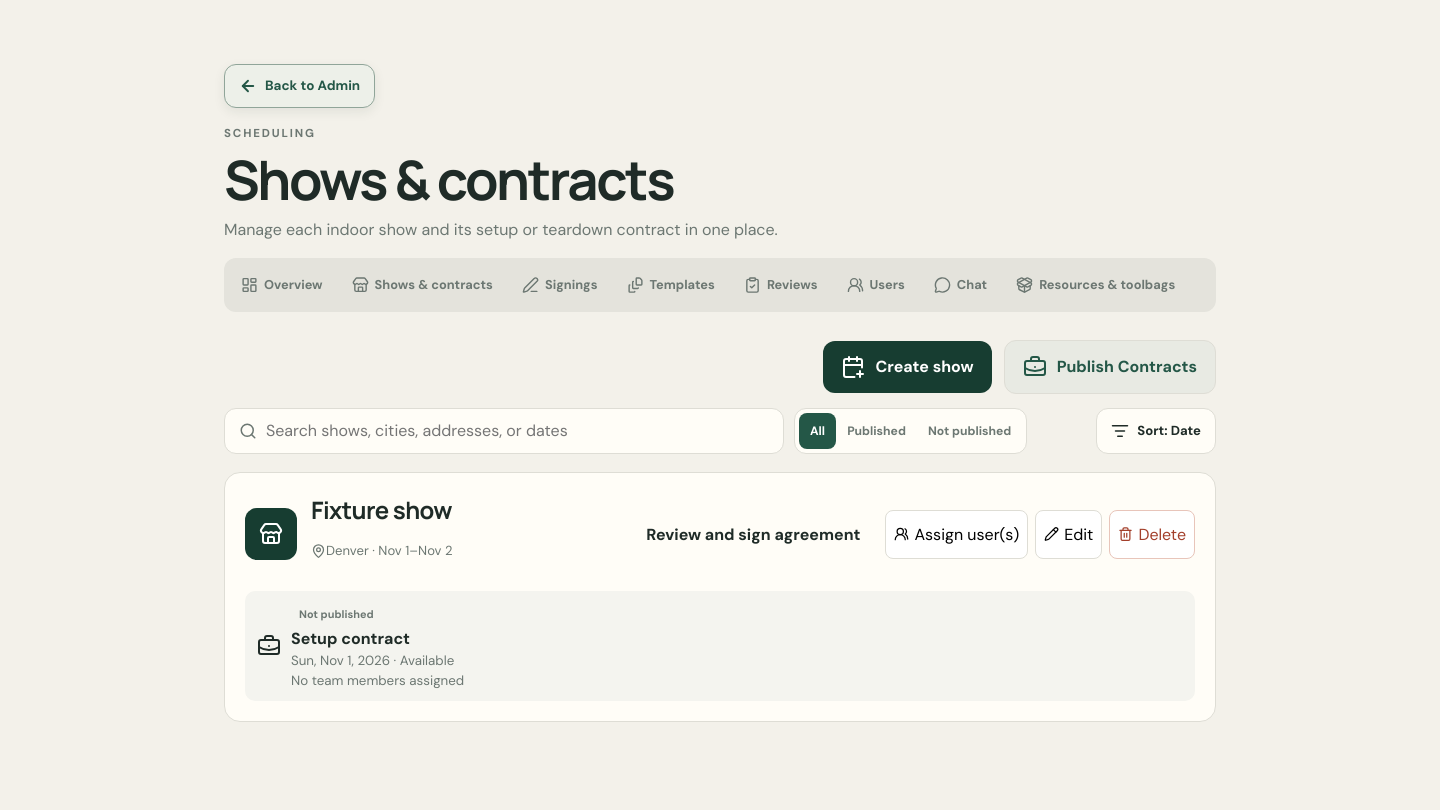
Test: saving an existing show does not reuse a stored admin name or write signature fields
Click the button "Edit". click: (1069, 534)
box: [1035,510,1102,559]
(page scrolled)
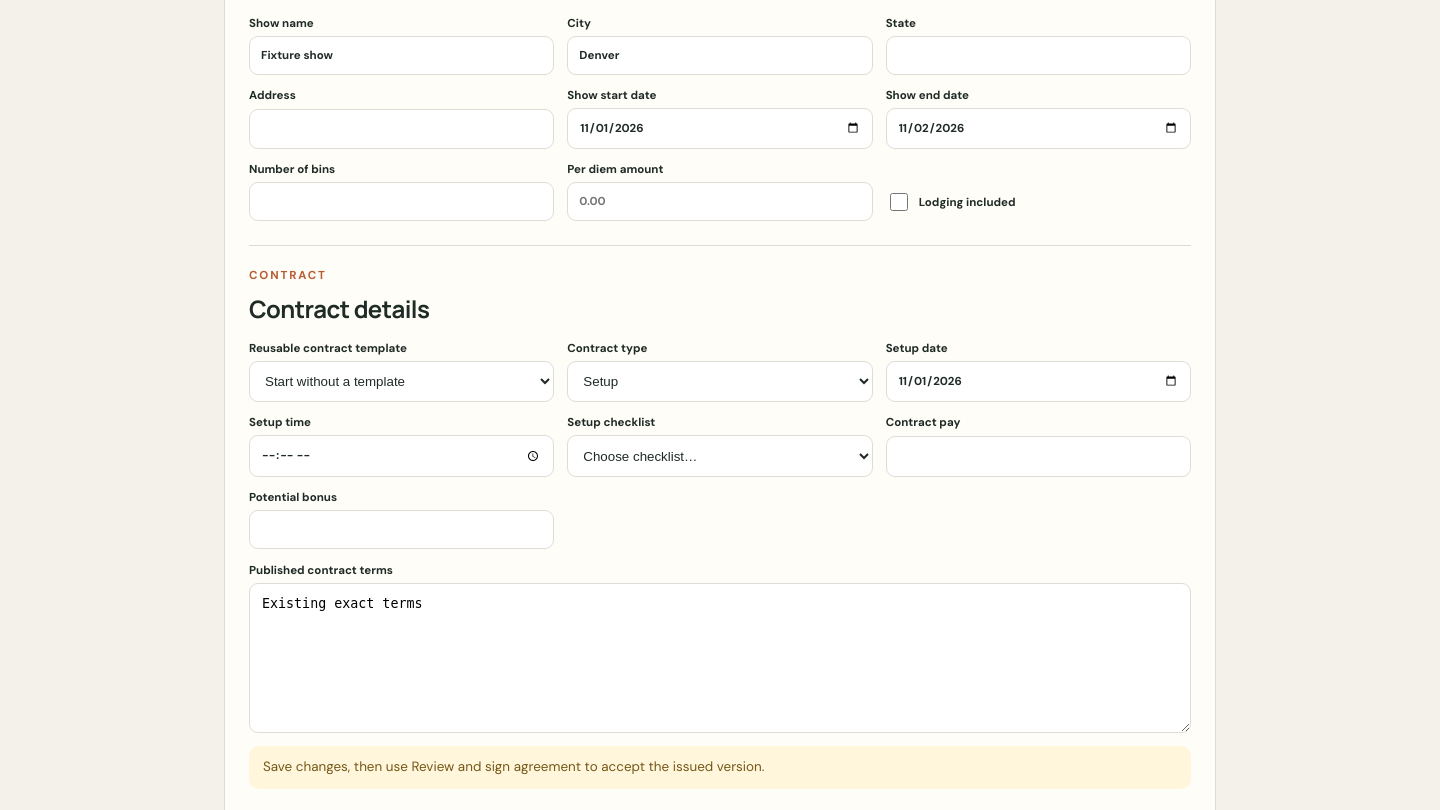
Submit the form named "Save show and contract"
(page scrolled)
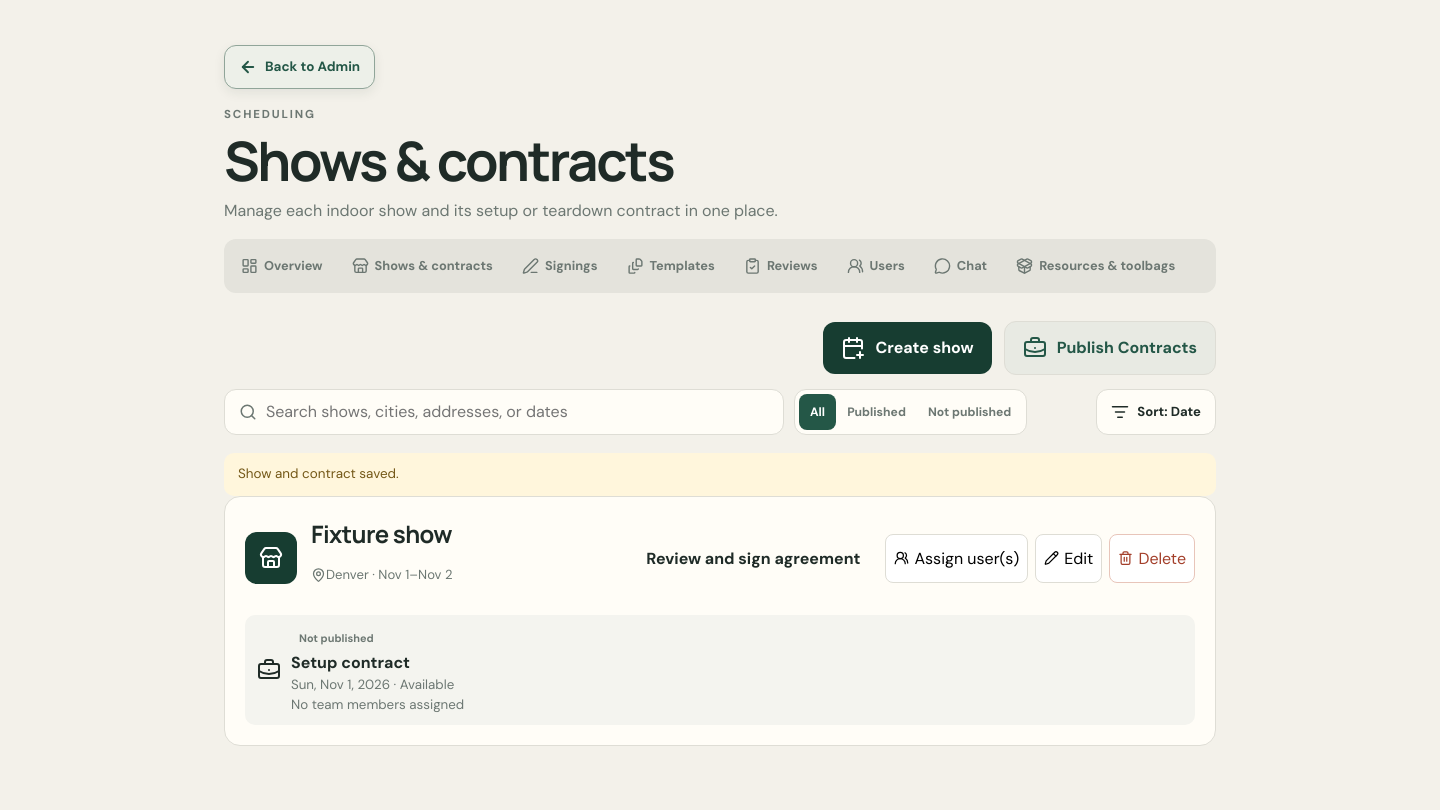
Check: the text "Show and contract saved." is shown, box [224,453,1216,496]
